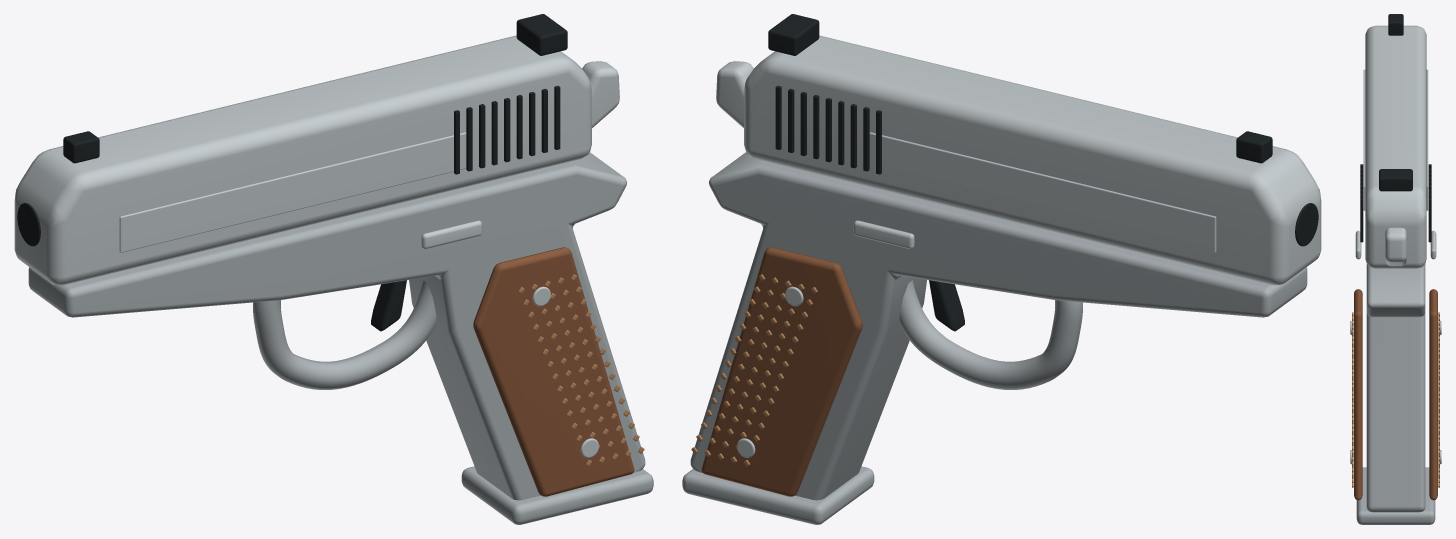
The picture shows the model from 3 angles, left to right: view 1: azimuth 30°, elevation 25°; view 2: azimuth 150°, elevation 25°; view 3: azimuth 270°, elevation 25°; orthographic projection. The views are drawn at different scales.
Visible parts, largest first — view 1: Rounded steel upper, Steel frame silhouette, Grip surface.004, Brushed side inset, Guard outline.002, Grip foot.002, Rear sculpted accent.001, Top rear marker.002, Guard interior mark.002, Side contour accent.004, Top front marker.002, Closed front medallion.002; view 2: Rounded steel upper, Steel frame silhouette, Grip surface.005, Brushed side inset.001, Guard outline.002, Grip foot.002, Rear sculpted accent.001, Top rear marker.002, Guard interior mark.002, Side contour accent.005, Top front marker.002, Closed front medallion.002; view 3: Steel frame silhouette, Rounded steel upper, Grip surface.004, Grip surface.005, Grip foot.002, Rear sculpted accent.001, Top rear marker.002, Brushed side inset, Brushed side inset.001, Top front marker.002, Side contour accent.004, Side contour accent.005 (+2 smaller).
Boxes of the visible parts, left/top/right/bottom form: Rounded steel upper: left=14, top=35, right=591, bottom=285; Steel frame silhouette: left=28, top=152, right=645, bottom=500; Grip surface.004: left=473, top=247, right=634, bottom=496; Brushed side inset: left=119, top=132, right=466, bottom=252; Guard outline.002: left=253, top=280, right=436, bottom=389; Grip foot.002: left=461, top=466, right=653, bottom=524; Rear sculpted accent.001: left=582, top=61, right=619, bottom=127; Top rear marker.002: left=516, top=14, right=567, bottom=55; Guard interior mark.002: left=371, top=280, right=406, bottom=331; Side contour accent.004: left=421, top=220, right=482, bottom=248; Top front marker.002: left=63, top=131, right=99, bottom=163; Closed front medallion.002: left=17, top=203, right=40, bottom=246; Rounded steel upper: left=744, top=35, right=1321, bottom=285; Steel frame silhouette: left=690, top=152, right=1307, bottom=500; Grip surface.005: left=701, top=247, right=862, bottom=496; Brushed side inset.001: left=869, top=132, right=1216, bottom=252; Guard outline.002: left=899, top=280, right=1082, bottom=389; Grip foot.002: left=682, top=466, right=874, bottom=524; Rear sculpted accent.001: left=716, top=61, right=753, bottom=127; Top rear marker.002: left=768, top=14, right=819, bottom=55; Guard interior mark.002: left=929, top=280, right=964, bottom=331; Side contour accent.005: left=853, top=220, right=914, bottom=248; Top front marker.002: left=1236, top=131, right=1272, bottom=163; Closed front medallion.002: left=1295, top=203, right=1318, bottom=246; Steel frame silhouette: left=1366, top=264, right=1425, bottom=512; Rounded steel upper: left=1365, top=25, right=1426, bottom=268; Grip surface.004: left=1354, top=289, right=1362, bottom=500; Grip surface.005: left=1429, top=289, right=1437, bottom=500; Grip foot.002: left=1356, top=467, right=1435, bottom=524; Rear sculpted accent.001: left=1385, top=227, right=1406, bottom=266; Top rear marker.002: left=1379, top=169, right=1412, bottom=191; Brushed side inset: left=1363, top=69, right=1365, bottom=210; Brushed side inset.001: left=1426, top=69, right=1428, bottom=210; Top front marker.002: left=1388, top=14, right=1403, bottom=35; Side contour accent.004: left=1355, top=230, right=1361, bottom=259; Side contour accent.005: left=1430, top=230, right=1436, bottom=259.
Bounding box in the file's own units: 3.11 × 2.33 × 0.596.
